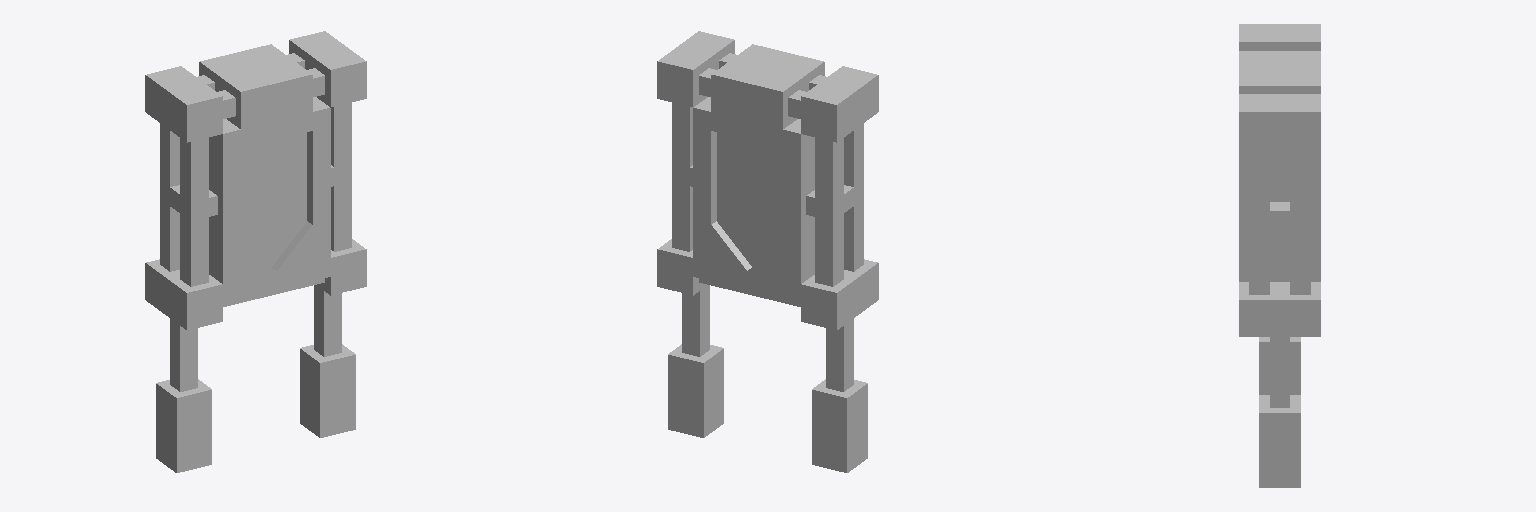
Rendered from solar_reflector.obj.
3 renders of one model, left to right at view 1: azimuth 30°, elevation 25°; view 2: azimuth 150°, elevation 25°; view 3: azimuth 270°, elevation 25°, orthographic.
Visible parts, largest first — view 1: base; view 2: base; view 3: base.
Boxes of the visible parts, box(x1,y1,x2,y2) form: base: box(145, 31, 366, 472); base: box(657, 31, 878, 472); base: box(1239, 24, 1320, 487).
Size of the model in its own units: 2.5 by 5 by 1.